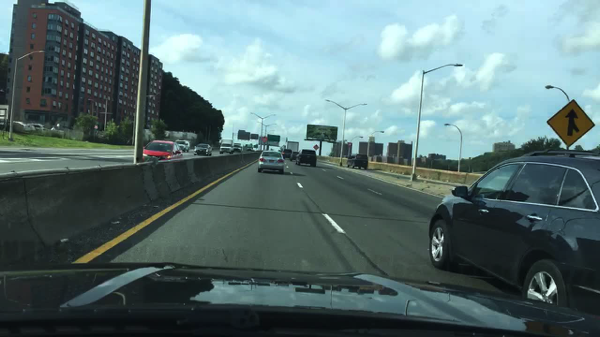car: (426, 147, 598, 317), (142, 138, 183, 161), (257, 150, 285, 172), (295, 148, 317, 166), (345, 153, 368, 169), (12, 121, 37, 133), (193, 142, 212, 156), (174, 139, 191, 153), (27, 122, 50, 131), (281, 148, 293, 161), (288, 152, 300, 162), (246, 145, 254, 152)
traffic sign: (543, 99, 595, 148), (257, 135, 280, 146), (0, 105, 9, 126), (238, 128, 251, 141), (267, 134, 280, 142), (250, 133, 258, 140), (347, 140, 353, 148), (313, 143, 318, 151)
truck: (219, 138, 236, 154), (285, 141, 298, 151), (232, 143, 243, 153)
